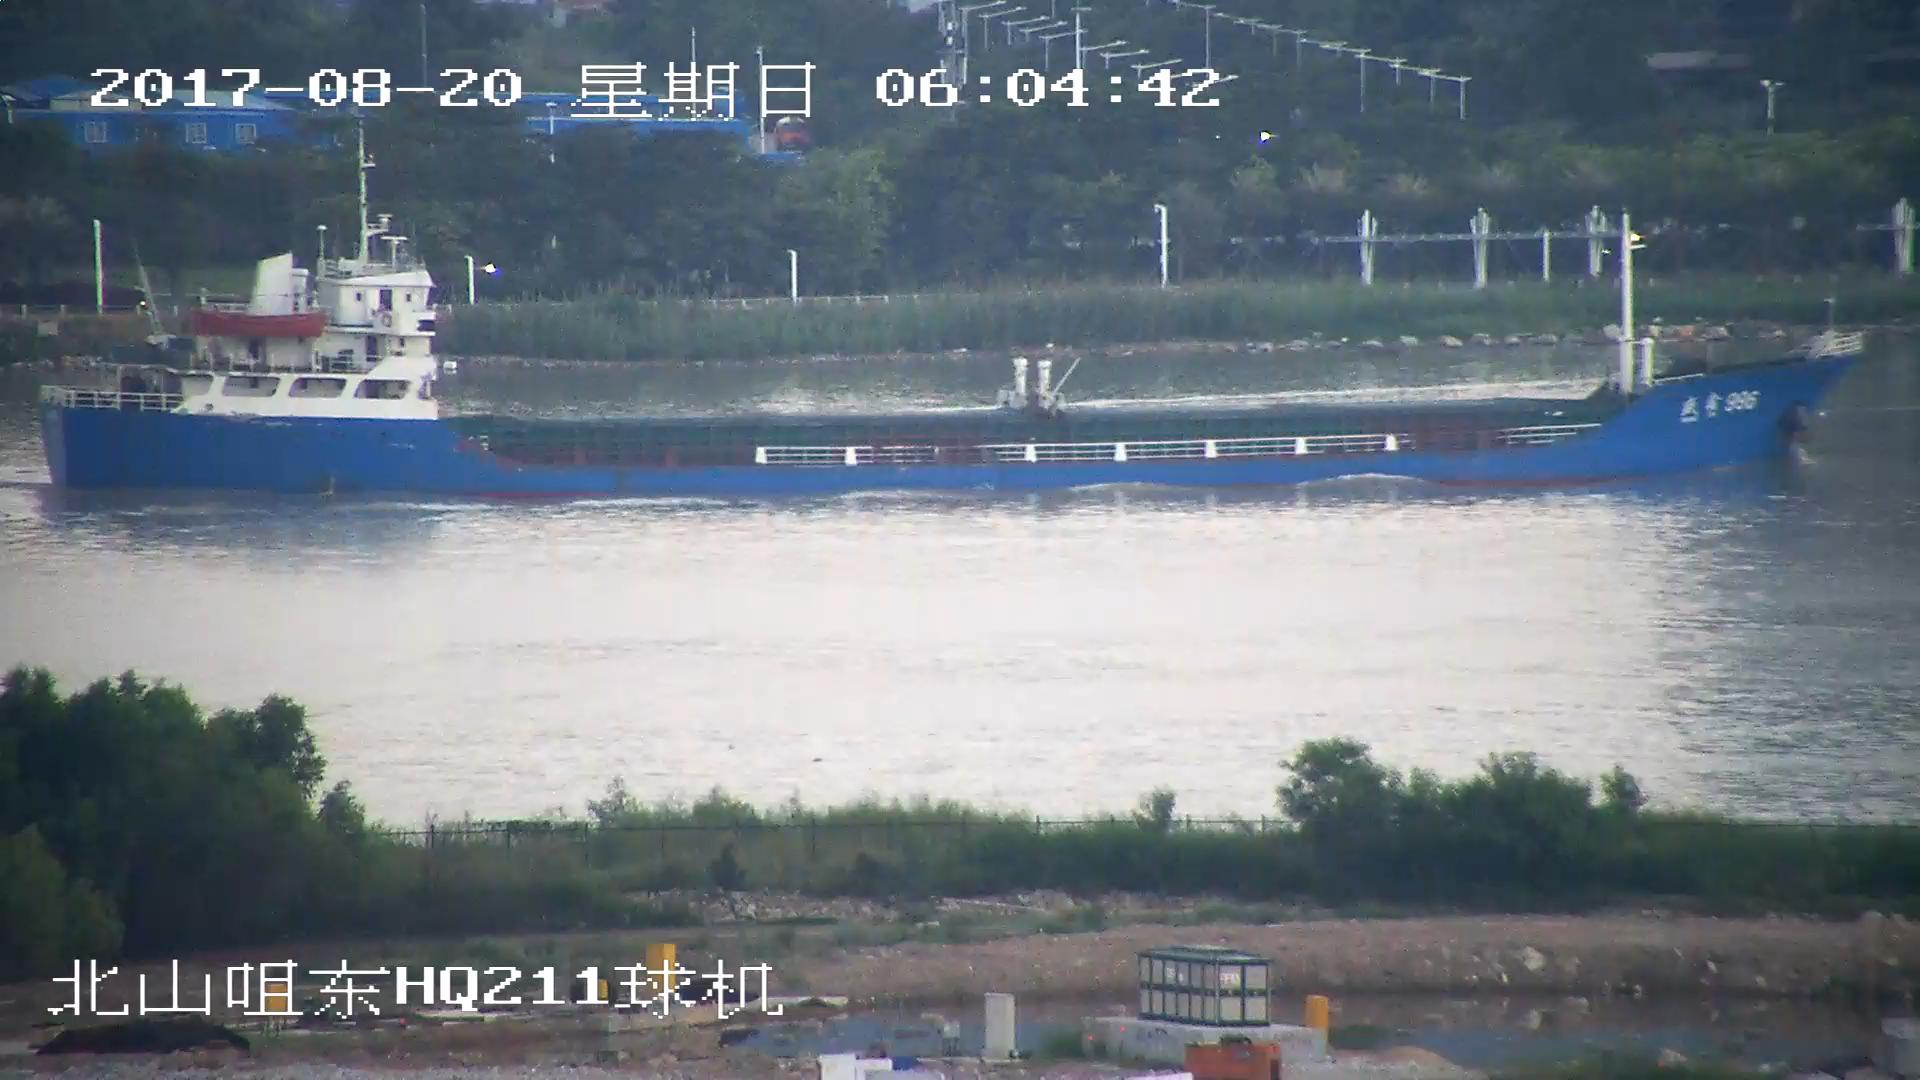Ship: (32, 132, 1866, 501)
